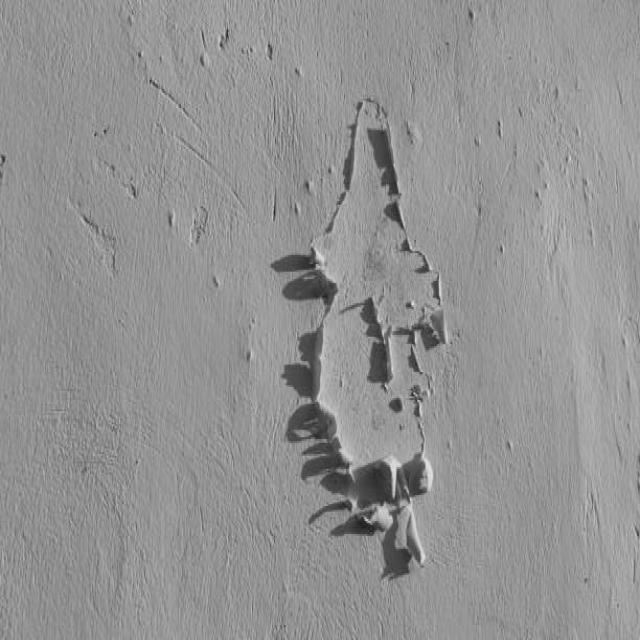peeling paint: (293, 88, 479, 597)
